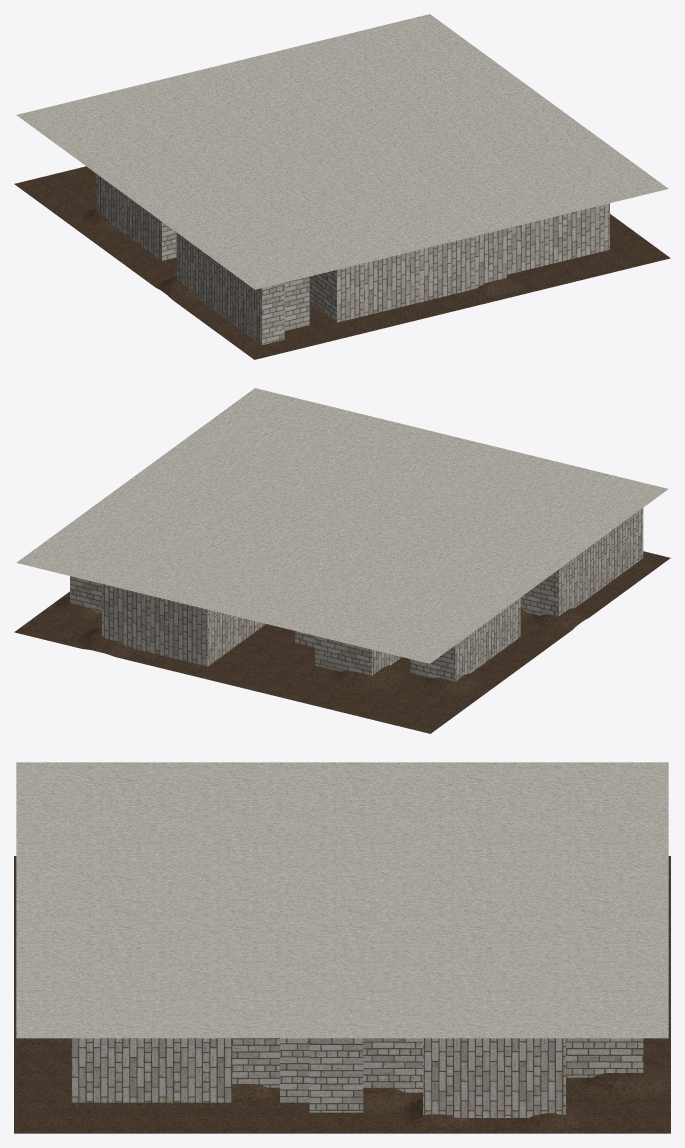
Rendered from map1.fbx.
The picture shows the model from 3 angles, top to bottom: view 1: azimuth 30°, elevation 25°; view 2: azimuth 150°, elevation 25°; view 3: azimuth 270°, elevation 25°; orthographic projection. The views are drawn at different scales.
Parts seen in each view (by area): view 1: Plane.001, Walls, Dirt; view 2: Plane.001, Dirt, Walls; view 3: Plane.001, Walls, Dirt.
Part boxes in pixels (box(x1,y1,x2,y2)): Plane.001: box(16, 14, 668, 289); Walls: box(96, 174, 609, 344); Dirt: box(14, 166, 670, 359); Plane.001: box(16, 388, 668, 663); Dirt: box(14, 551, 670, 733); Walls: box(70, 508, 643, 682); Plane.001: box(16, 762, 668, 1038); Walls: box(71, 1038, 643, 1117); Dirt: box(14, 856, 670, 1133).
Bounding box in the file's own units: 7488 × 1189 × 7488.
